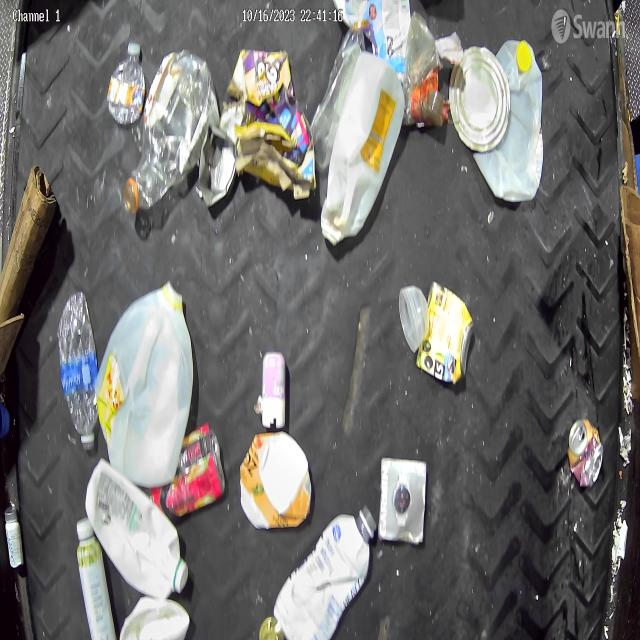can: (449, 45, 511, 153), (419, 282, 474, 383), (567, 417, 604, 488), (255, 616, 291, 640)
milk_jug: (98, 280, 194, 483), (320, 52, 406, 245), (87, 466, 191, 602), (473, 38, 544, 202)
non_white_jug: (240, 433, 312, 529)
plastic_bottle: (124, 52, 215, 212), (58, 292, 98, 450), (108, 39, 145, 127)
